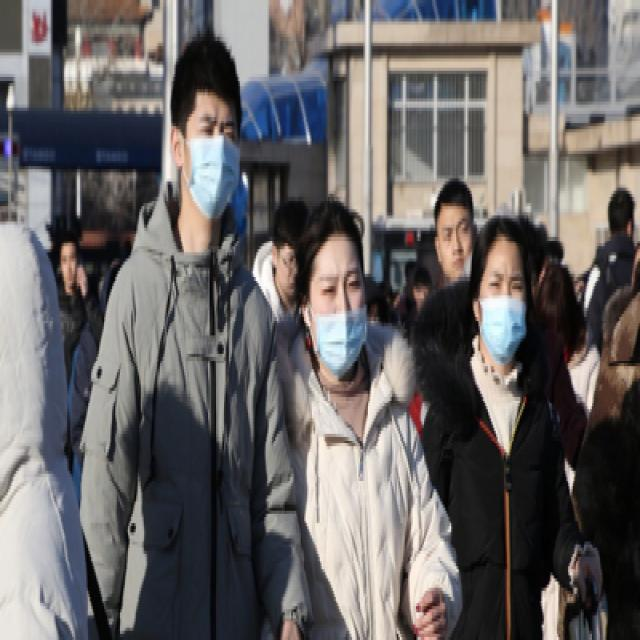with_mask: (309, 258, 368, 376), (182, 99, 242, 212), (477, 262, 531, 364)
without_mask: (440, 209, 474, 277), (277, 240, 299, 296), (59, 240, 75, 286)
